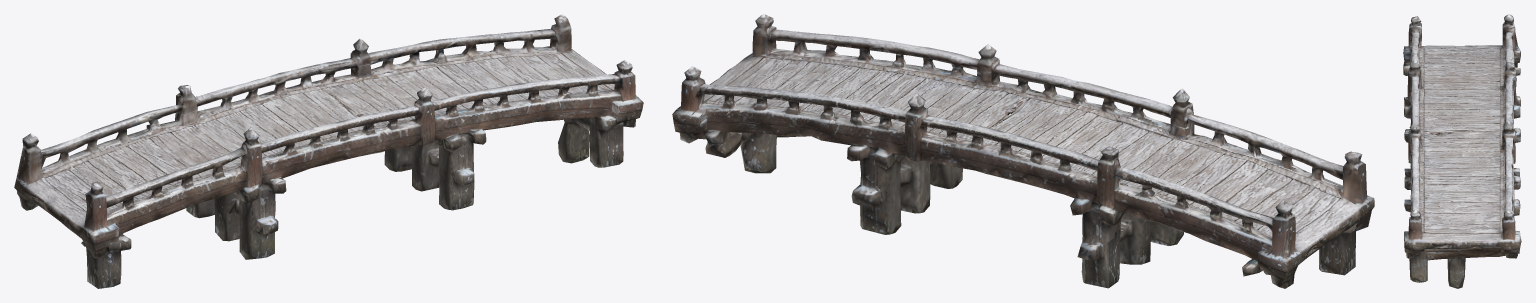
Rendered from PR_Chwihyanggyo.fbx.
The picture shows the model from 3 angles, left to right: view 1: azimuth 30°, elevation 25°; view 2: azimuth 150°, elevation 25°; view 3: azimuth 270°, elevation 25°; orthographic projection. The views are drawn at different scales.
Parts seen in each view (by area): view 1: texture_mapping; view 2: texture_mapping; view 3: texture_mapping.
Boxes of the visible parts, x1,y1,x2,y2 form: texture_mapping: (14, 14, 643, 288); texture_mapping: (672, 14, 1374, 288); texture_mapping: (1403, 14, 1521, 288).
Bounding box in the file's own units: 1 × 0.2526 × 0.2374.
1 material, 1 textured.
